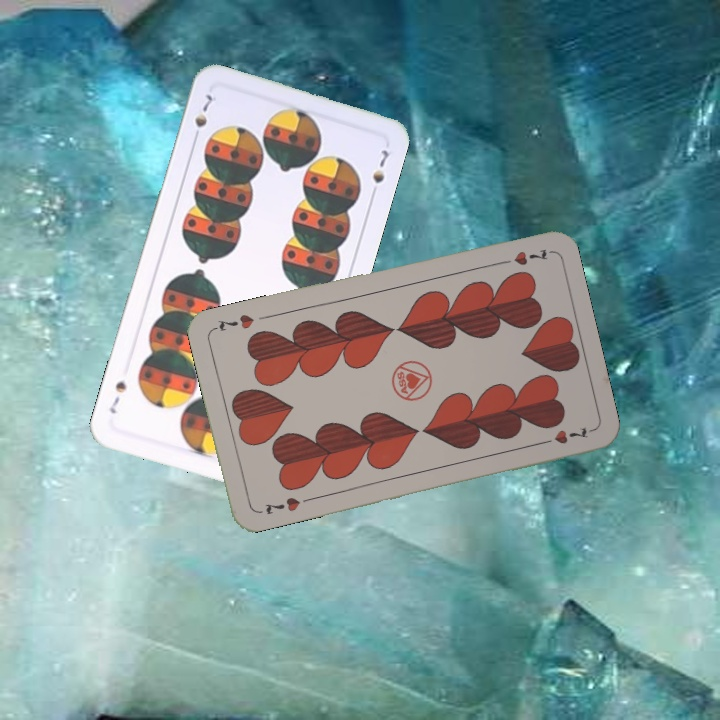H7: (494, 244, 552, 268), (260, 493, 303, 517)
S7: (189, 90, 215, 145)
